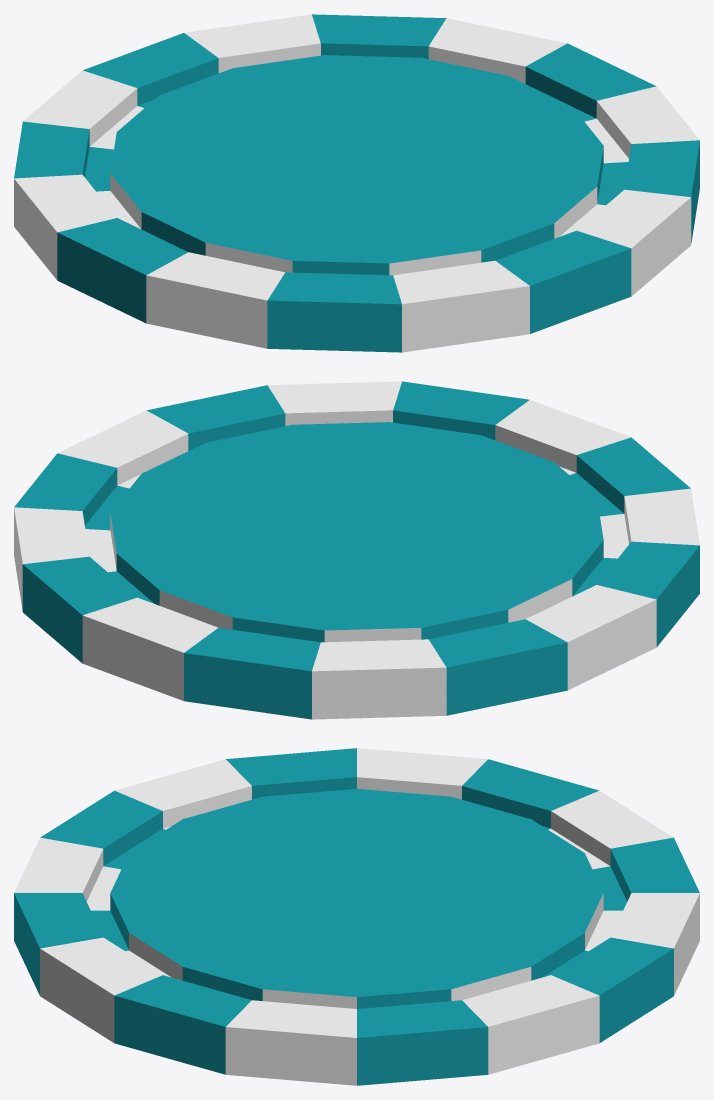
The model's file is CyanChip.fbx.
The picture shows the model from 3 angles, top to bottom: view 1: azimuth 30°, elevation 25°; view 2: azimuth 150°, elevation 25°; view 3: azimuth 270°, elevation 25°; orthographic projection.
Parts seen in each view (by area): view 1: Chip.005; view 2: Chip.005; view 3: Chip.005.
Boxes of the visible parts, x1,y1,x2,y2 form: Chip.005: [14, 14, 699, 352]; Chip.005: [14, 381, 699, 719]; Chip.005: [14, 748, 699, 1085].
Size of the model in its own units: 39 by 3.01 by 39.
